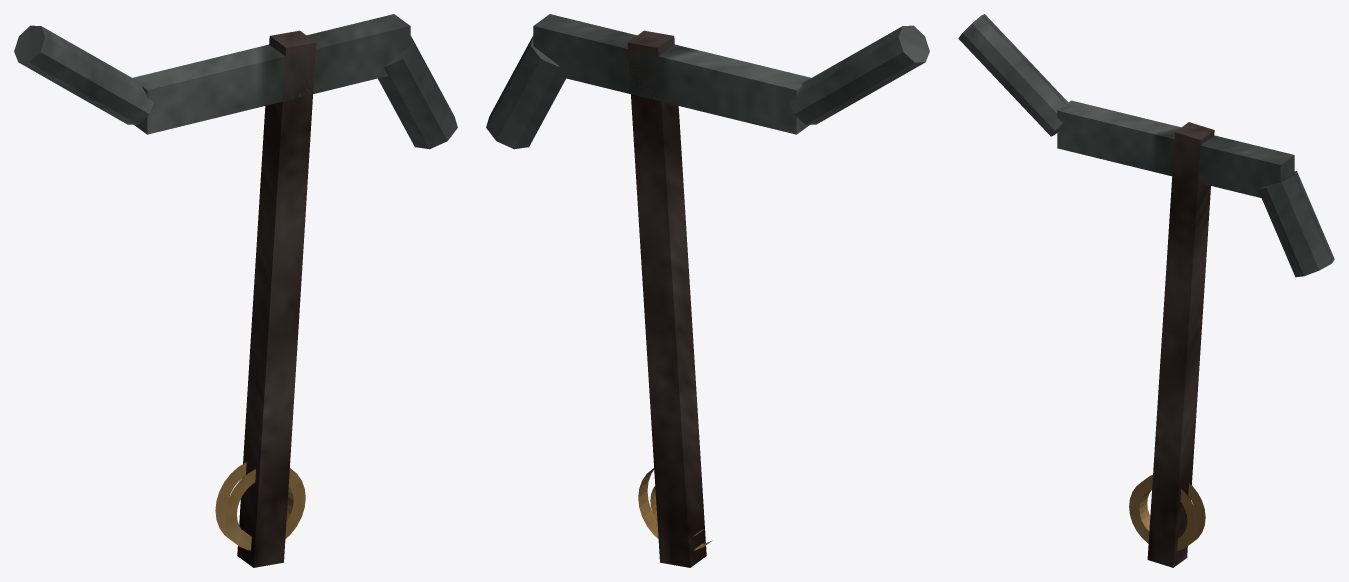
File: 0886_climbing_axe_11.glb
3 renders of one model, left to right at view 1: azimuth 30°, elevation 25°; view 2: azimuth 150°, elevation 25°; view 3: azimuth 330°, elevation 25°, orthographic. The views are drawn at different scales.
Visible parts, largest first — view 1: iron, wood_dark, brass; view 2: iron, wood_dark, brass; view 3: iron, wood_dark, brass.
Part boxes in pixels (x1,y1,x2,y2): iron: [14, 14, 457, 149]; wood_dark: [237, 30, 316, 567]; brass: [215, 462, 305, 550]; iron: [486, 14, 929, 149]; wood_dark: [627, 30, 706, 567]; brass: [638, 468, 712, 550]; iron: [958, 14, 1334, 277]; wood_dark: [1147, 122, 1214, 567]; brass: [1129, 474, 1205, 550].
Size of the model in its own units: 1.08 by 1.39 by 0.11.
3 materials, 3 textured.
